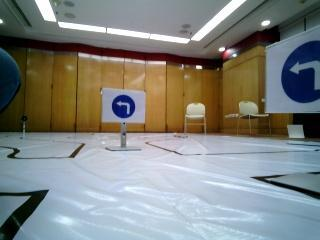left: (263, 50, 320, 106), (106, 88, 147, 127)
